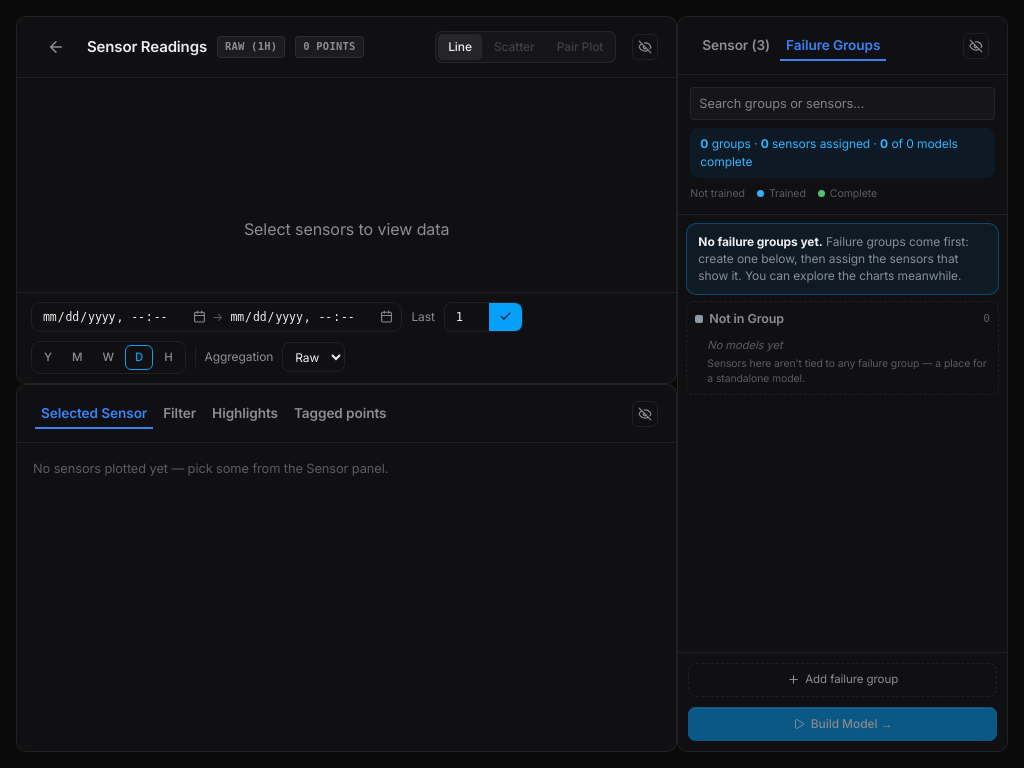
it: Dashboard › panel collapse / expand › hiding the chart panel removes it and adds a sidebar tab; clicking the tab restores it
The width and height of the screenshot is (1024, 768).
Click the button "Sensor (3)" at (736, 46), box [696, 31, 776, 61]
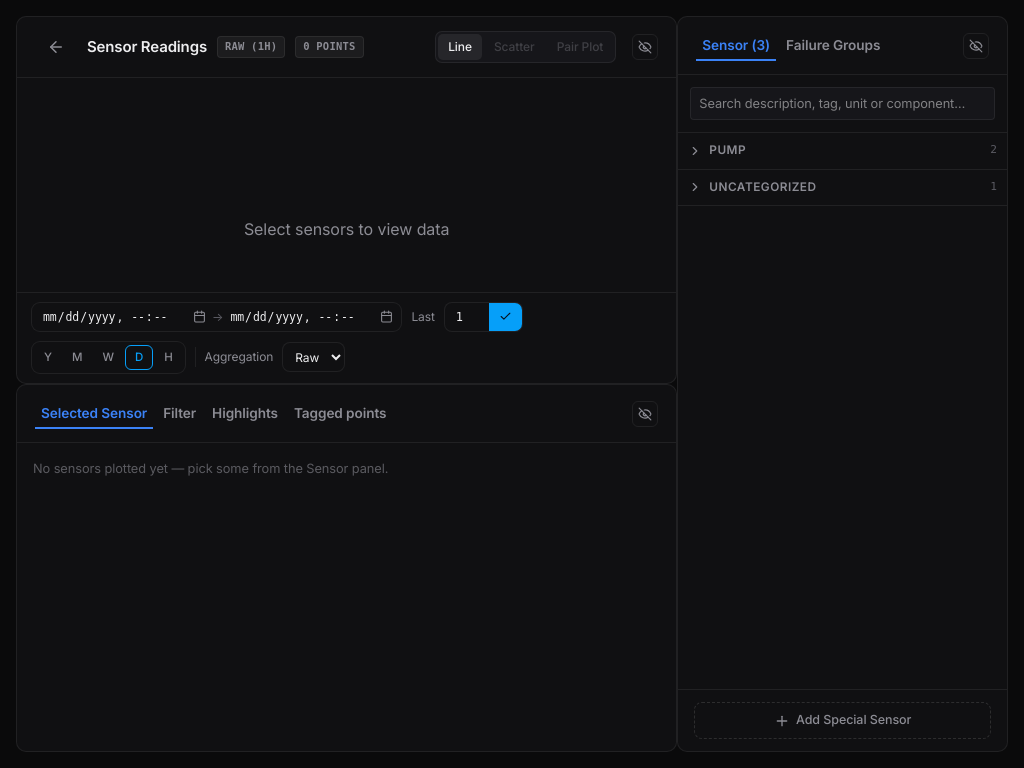
Click the button titled "Hide panel" in the row of "0 Points" at (645, 47), box [632, 34, 658, 60]
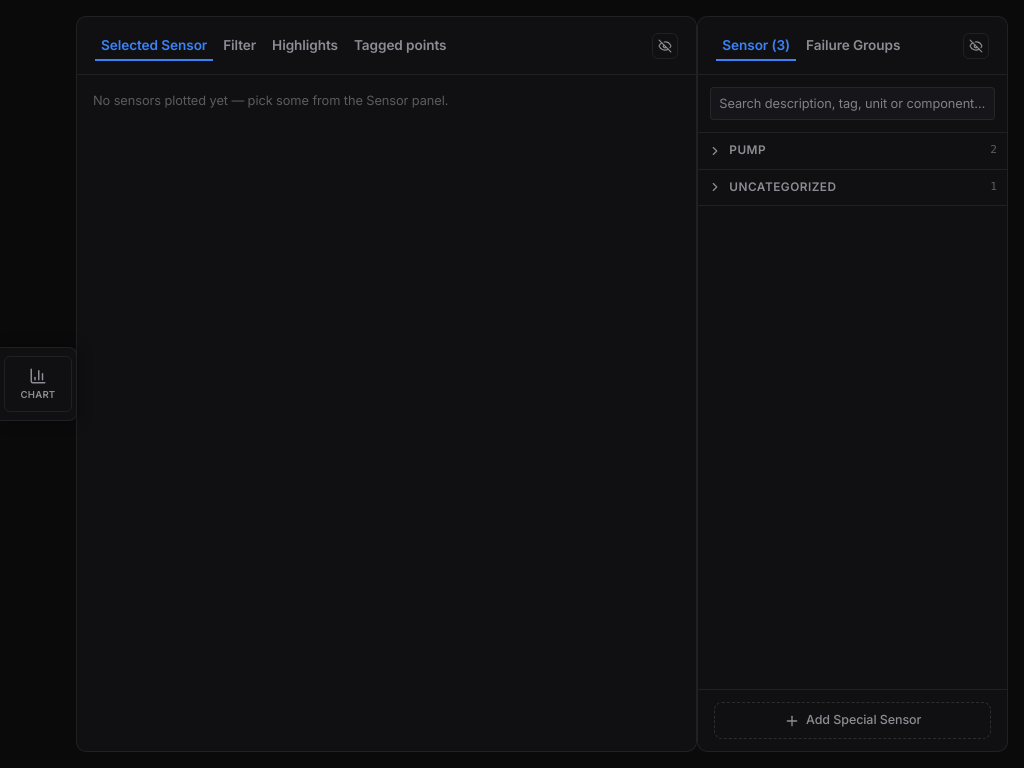
Check: the heading "Sensor Readings" is gone
Check: the button titled "Show Chart" is shown
Click the button titled "Show Chart" at (38, 384), box [4, 356, 72, 412]
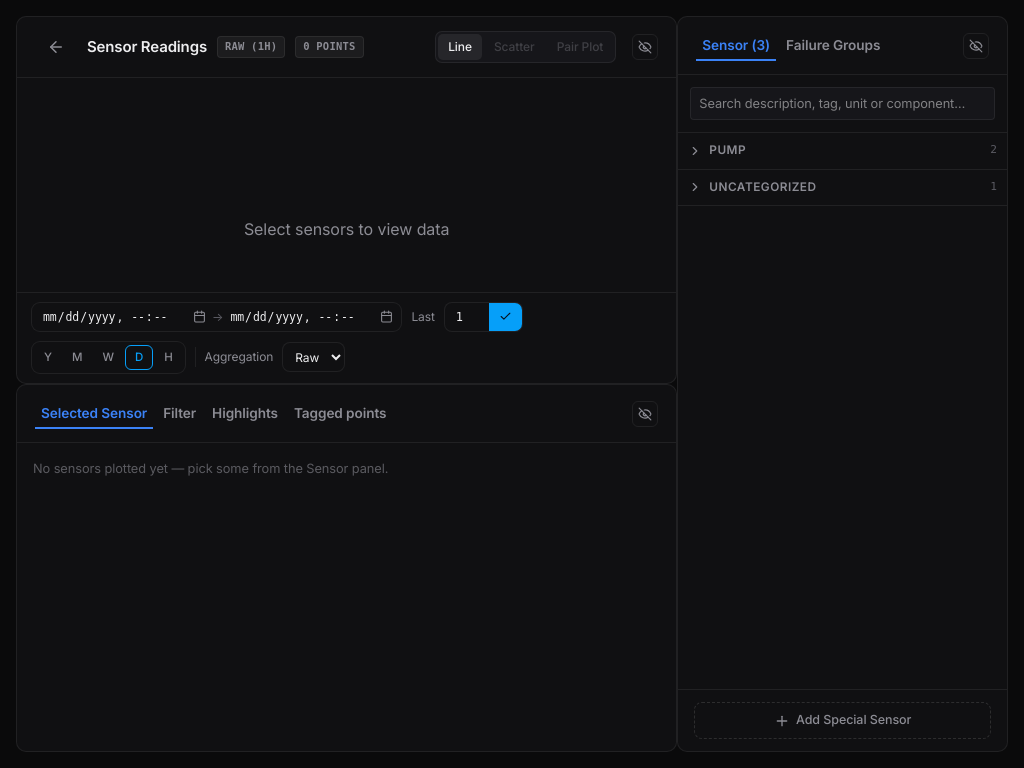
Check: the heading "Sensor Readings" is shown, box [87, 36, 207, 58]
